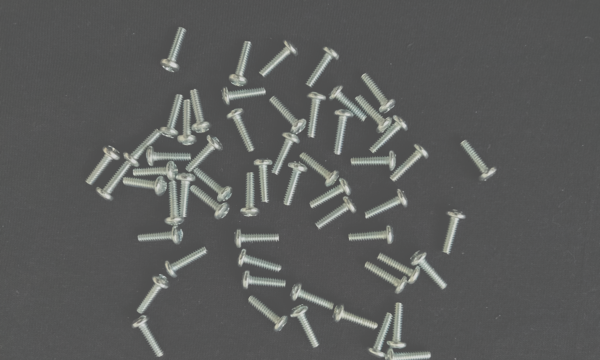shortscrew: (461, 138, 498, 182), (390, 143, 431, 182), (370, 114, 409, 154), (165, 244, 209, 279), (411, 250, 448, 291), (259, 40, 300, 77), (361, 72, 397, 114), (269, 95, 307, 134), (248, 296, 288, 333), (304, 47, 340, 88), (131, 314, 164, 358), (356, 95, 394, 133), (124, 129, 162, 167), (186, 135, 223, 174), (328, 85, 368, 121), (299, 151, 339, 187), (85, 145, 120, 186), (308, 176, 352, 208), (317, 196, 358, 230), (190, 186, 231, 220), (137, 273, 170, 315), (378, 253, 421, 285), (365, 188, 409, 219), (271, 132, 302, 176), (364, 262, 407, 293), (290, 305, 320, 349), (226, 108, 255, 153), (195, 169, 233, 203), (367, 313, 395, 359), (290, 283, 336, 311), (97, 163, 130, 202), (160, 27, 187, 73), (332, 305, 379, 331), (283, 161, 309, 208), (189, 88, 214, 134), (159, 94, 184, 139), (443, 209, 467, 255), (228, 42, 253, 86), (238, 249, 283, 273), (146, 146, 192, 168), (334, 109, 355, 156), (349, 226, 395, 247), (351, 150, 397, 171), (253, 156, 274, 202), (307, 92, 327, 140), (177, 99, 197, 147), (221, 85, 266, 106), (233, 227, 280, 247), (138, 225, 185, 245), (123, 177, 169, 197), (387, 303, 406, 351), (177, 171, 196, 218), (165, 180, 184, 226), (133, 161, 179, 180), (241, 172, 260, 217), (241, 271, 287, 289), (385, 348, 431, 360)
